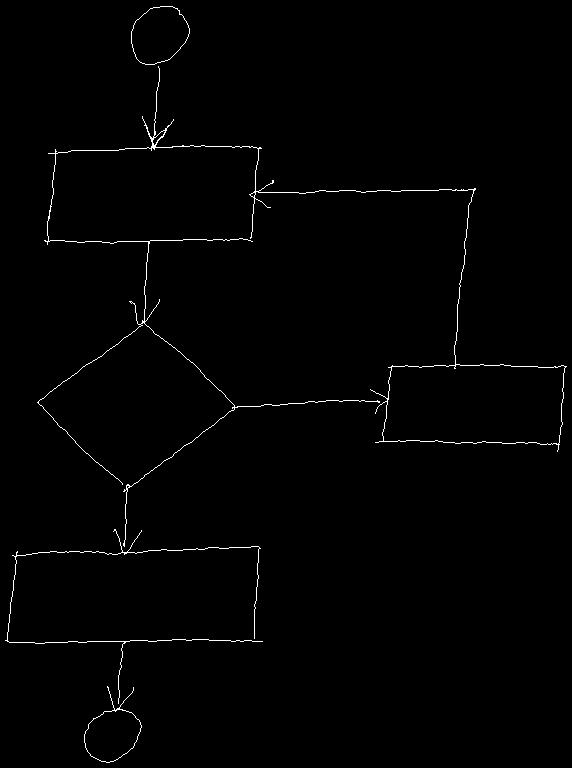arrow: (249, 180, 475, 368), (232, 389, 388, 413), (142, 66, 173, 150), (129, 241, 159, 324), (113, 484, 141, 554), (107, 642, 133, 711)
connection: (131, 6, 189, 64), (84, 708, 141, 762)
decision: (37, 320, 239, 491)
process: (5, 546, 262, 643), (44, 145, 261, 244), (375, 364, 566, 451)
